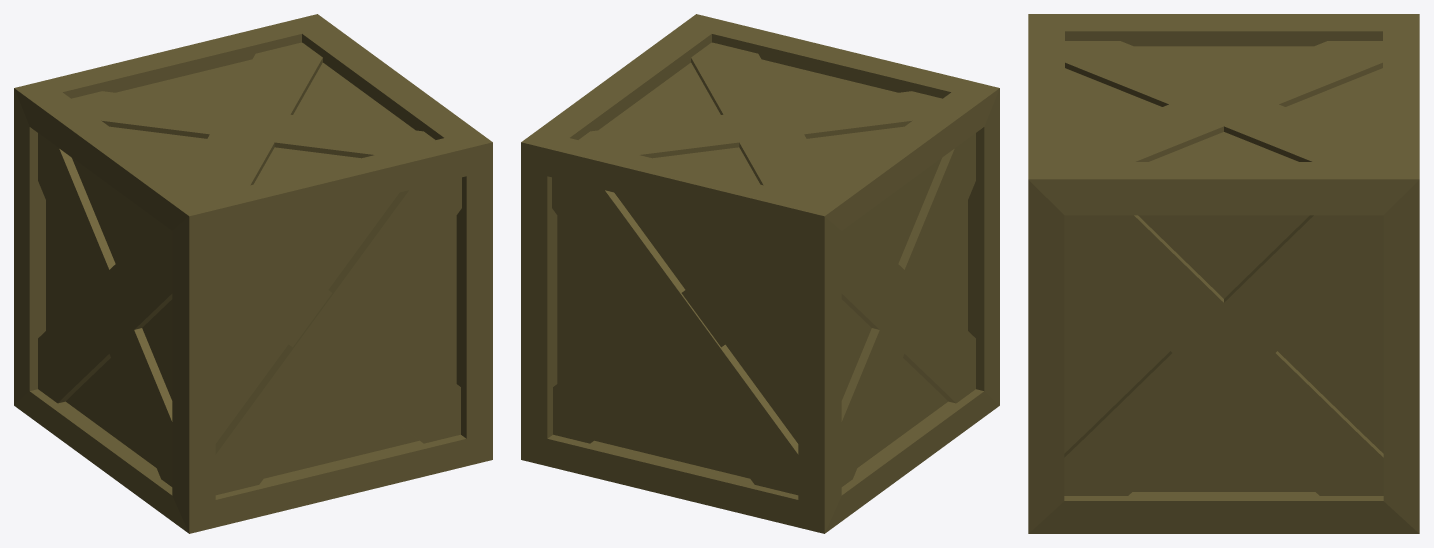
File: CAJA2.fbx
The picture shows the model from 3 angles, left to right: view 1: azimuth 30°, elevation 25°; view 2: azimuth 150°, elevation 25°; view 3: azimuth 270°, elevation 25°; orthographic projection. The views are drawn at different scales.
Visible parts, largest first — view 1: Cube; view 2: Cube; view 3: Cube.
Part boxes in pixels (<box>): Cube: <box>14,14,492,533</box>; Cube: <box>521,14,999,533</box>; Cube: <box>1028,14,1419,533</box>.
Bounding box in the file's own units: 202 × 200 × 200.
Materials: 1 (1 with a texture image).
